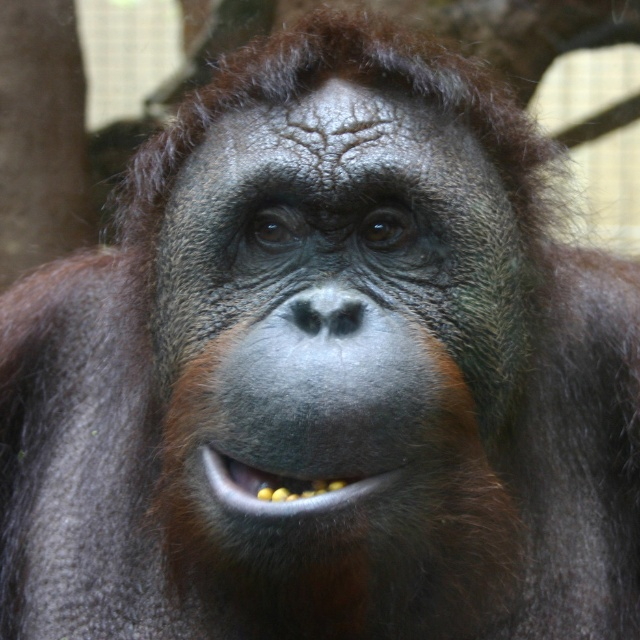Monkey: (0, 4, 639, 639)
